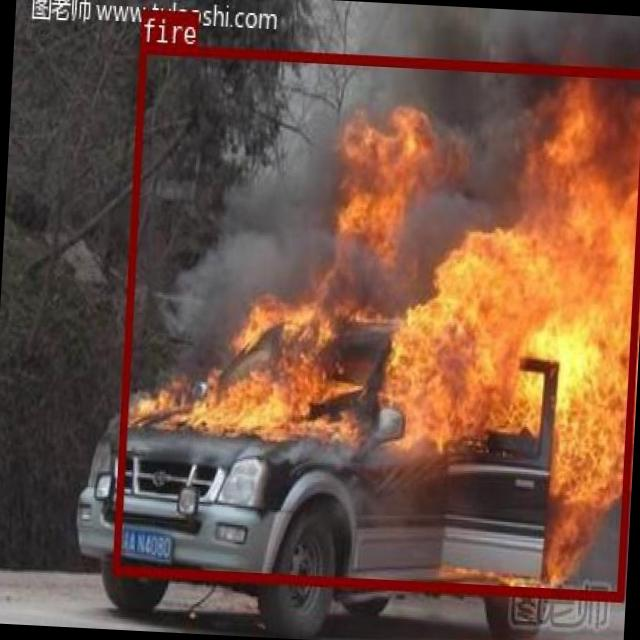fire: (112, 42, 640, 601)
